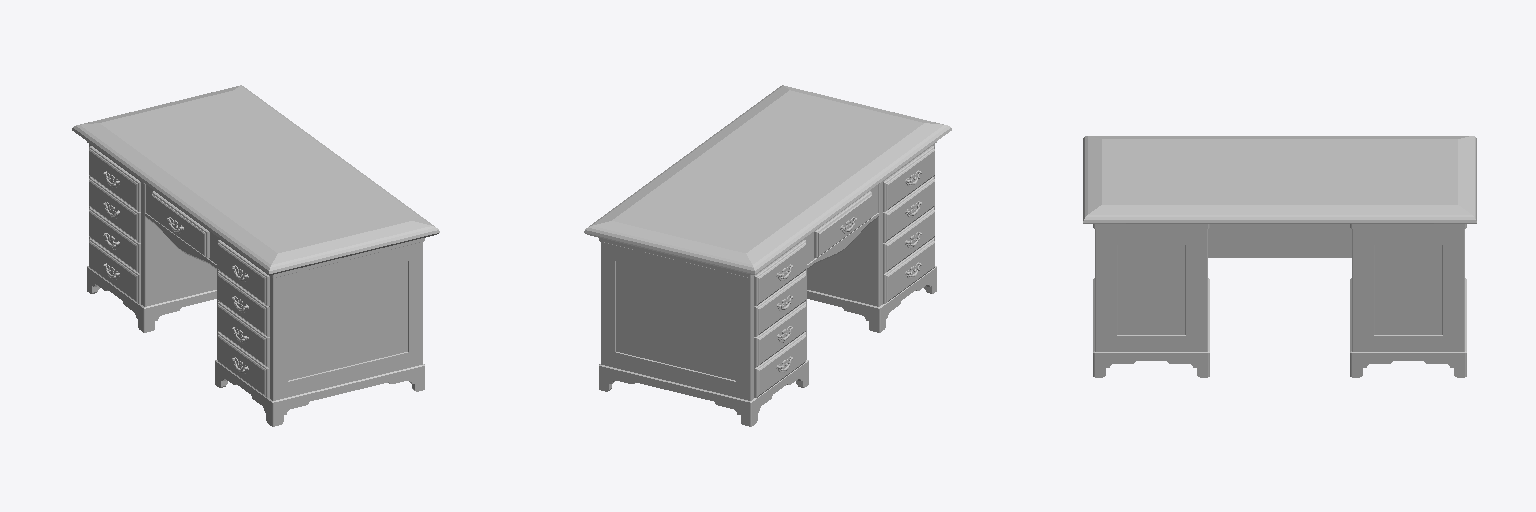
File: table.obj
3 views of the same model, side by side, from view 1: azimuth 30°, elevation 25°; view 2: azimuth 150°, elevation 25°; view 3: azimuth 270°, elevation 25° (orthographic).
Parts seen in each view (by area): view 1: defaultMaterial.056, defaultMaterial.024, defaultMaterial.029, defaultMaterial.045, defaultMaterial.019, defaultMaterial.050, defaultMaterial.004, defaultMaterial.030, defaultMaterial.035, defaultMaterial.009, defaultMaterial.014, defaultMaterial.040 (+1 smaller); view 2: defaultMaterial.056, defaultMaterial.029, defaultMaterial.024, defaultMaterial.045, defaultMaterial.019, defaultMaterial.050, defaultMaterial.040, defaultMaterial.030, defaultMaterial.035, defaultMaterial.014, defaultMaterial.004, defaultMaterial.009 (+1 smaller); view 3: defaultMaterial.056, defaultMaterial.024, defaultMaterial.029, defaultMaterial.055.
Boxes of the visible parts, <box> form: defaultMaterial.056: <box>72,85,439,274</box>; defaultMaterial.024: <box>215,235,424,409</box>; defaultMaterial.029: <box>87,142,216,315</box>; defaultMaterial.045: <box>89,146,140,211</box>; defaultMaterial.019: <box>218,240,269,305</box>; defaultMaterial.050: <box>152,191,209,257</box>; defaultMaterial.004: <box>218,332,269,397</box>; defaultMaterial.030: <box>89,238,140,303</box>; defaultMaterial.035: <box>89,207,140,273</box>; defaultMaterial.009: <box>218,302,269,367</box>; defaultMaterial.014: <box>218,271,269,336</box>; defaultMaterial.040: <box>89,177,140,242</box>; defaultMaterial.056: <box>584,85,951,274</box>; defaultMaterial.029: <box>599,235,808,409</box>; defaultMaterial.024: <box>807,142,936,315</box>; defaultMaterial.045: <box>754,240,805,305</box>; defaultMaterial.019: <box>883,146,934,211</box>; defaultMaterial.050: <box>814,191,871,257</box>; defaultMaterial.040: <box>754,271,805,336</box>; defaultMaterial.030: <box>754,332,805,397</box>; defaultMaterial.035: <box>754,302,805,367</box>; defaultMaterial.014: <box>883,177,934,242</box>; defaultMaterial.004: <box>883,238,934,303</box>; defaultMaterial.009: <box>883,207,934,273</box>; defaultMaterial.056: <box>1083,136,1476,223</box>; defaultMaterial.024: <box>1093,224,1209,360</box>; defaultMaterial.029: <box>1350,224,1466,360</box>; defaultMaterial.055: <box>1208,224,1351,257</box>.
Bounding box in the file's own units: 1 × 0.9417 × 2.